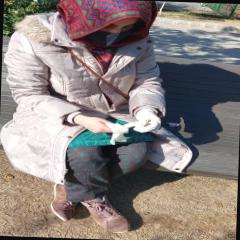gloved: (131, 107, 158, 133)
not-gloved: (74, 114, 119, 133)
